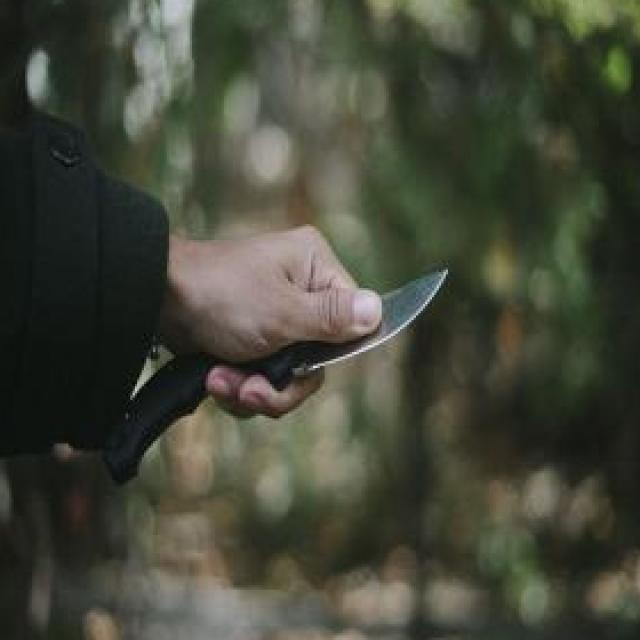knife: (254, 258, 455, 414)
